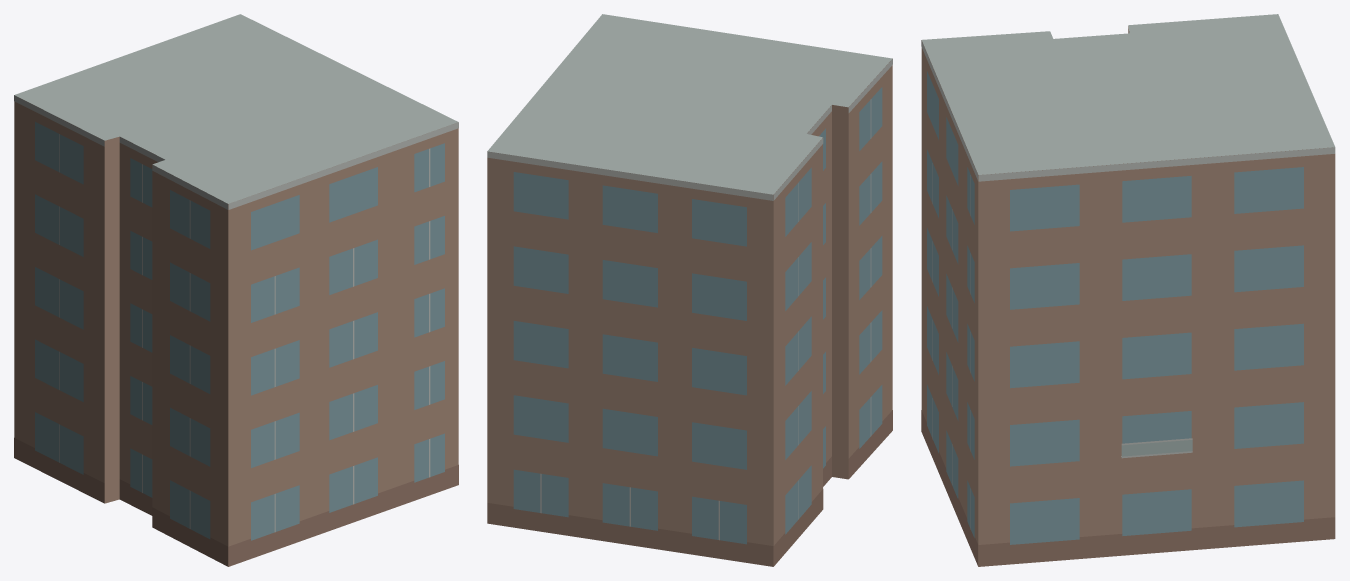
File: survey-upis-32708163.glb
3 views of the same model, side by side, from view 1: azimuth 30°, elevation 25°; view 2: azimuth 150°, elevation 25°; view 3: azimuth 270°, elevation 25° (orthographic). The views are drawn at different scales.
Visible parts, largest first — view 1: survey-upis-32708163.tmp; view 2: survey-upis-32708163.tmp; view 3: survey-upis-32708163.tmp.
Part boxes in pixels (<box>): survey-upis-32708163.tmp: <box>14,14,458,566</box>; survey-upis-32708163.tmp: <box>487,14,892,566</box>; survey-upis-32708163.tmp: <box>921,14,1335,566</box>.
Bounding box in the file's own units: 12.75 × 14.45 × 13.84.
